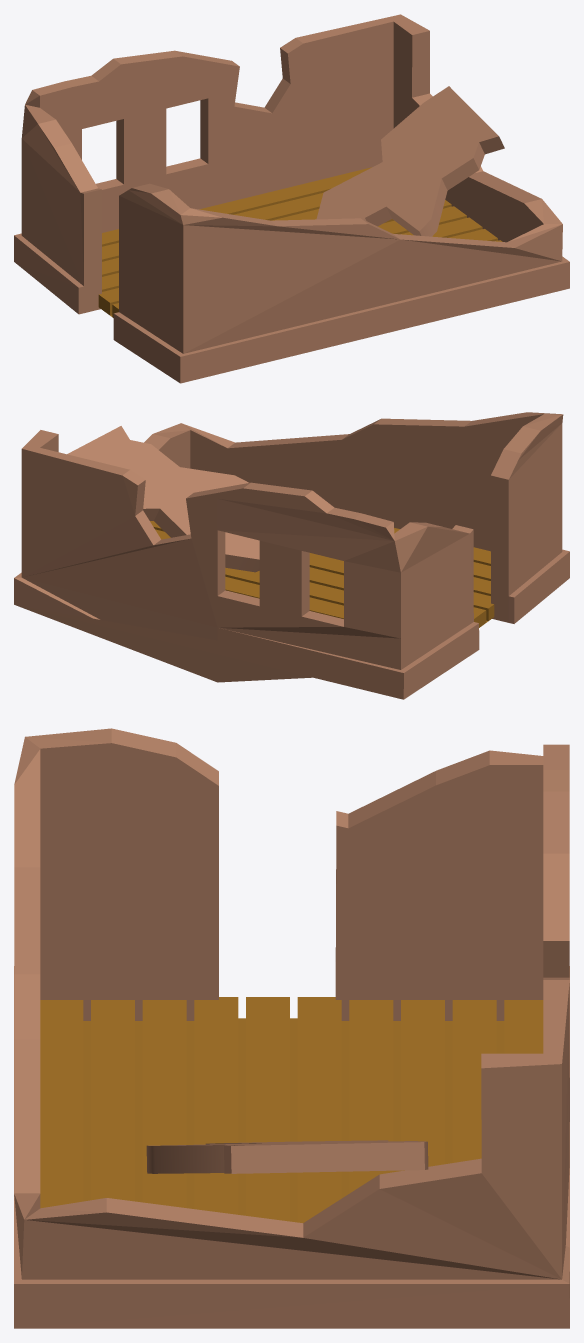
File: 03 Broken_House_1.FBX
The picture shows the model from 3 angles, top to bottom: view 1: azimuth 30°, elevation 25°; view 2: azimuth 150°, elevation 25°; view 3: azimuth 270°, elevation 25°; orthographic projection. The views are drawn at different scales.
Parts seen in each view (by area): view 1: House_1; view 2: House_1; view 3: House_1.
Boxes of the visible parts, left/top/right/bottom form: House_1: left=14, top=14, right=569, bottom=383; House_1: left=14, top=412, right=569, bottom=699; House_1: left=14, top=728, right=569, bottom=1328.
Bounding box in the file's own units: 2224 × 1095 × 1590.
